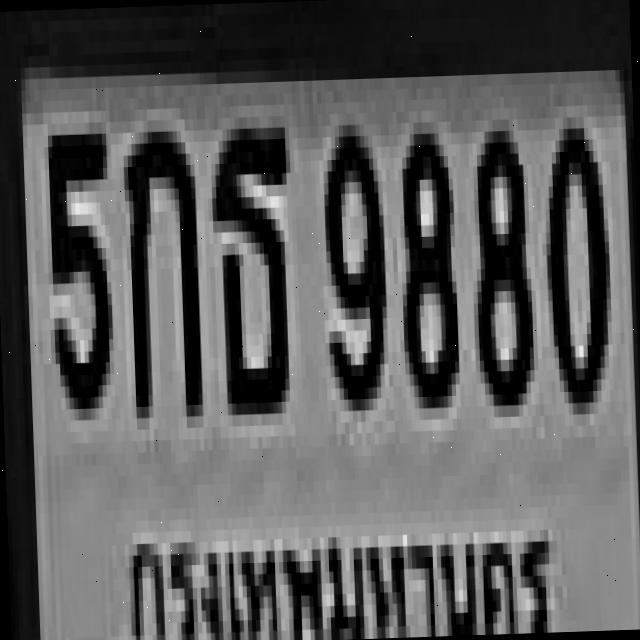0: (538, 116, 606, 403)
10GorGai: (122, 118, 198, 406)
33ThorThong: (205, 115, 294, 404)
5: (43, 122, 111, 409)
8: (392, 121, 456, 398), (466, 112, 530, 388)
9: (317, 113, 385, 400)
Bangkok: (117, 491, 562, 640)
